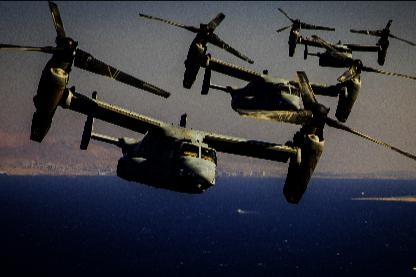Tornado: (0, 0, 415, 204), (139, 12, 415, 122), (276, 7, 414, 67)
